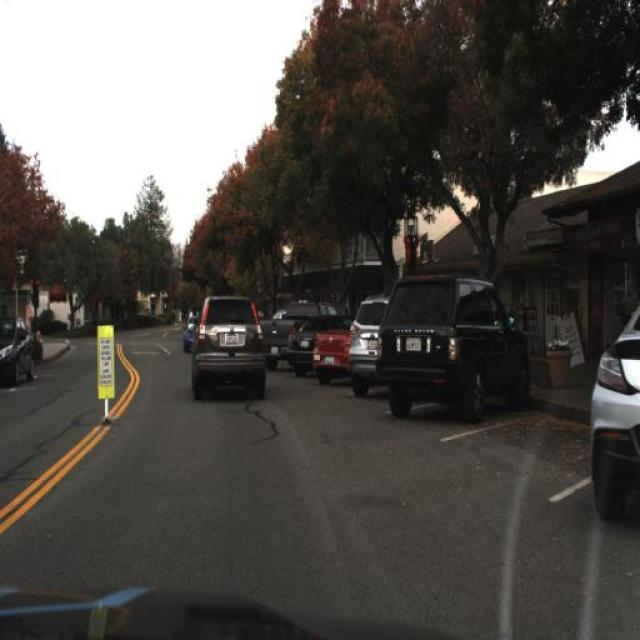car: (370, 274, 534, 414), (589, 302, 640, 528), (183, 290, 271, 404), (258, 297, 337, 365), (344, 289, 392, 400), (308, 312, 348, 382), (0, 313, 38, 383), (286, 308, 315, 372)
